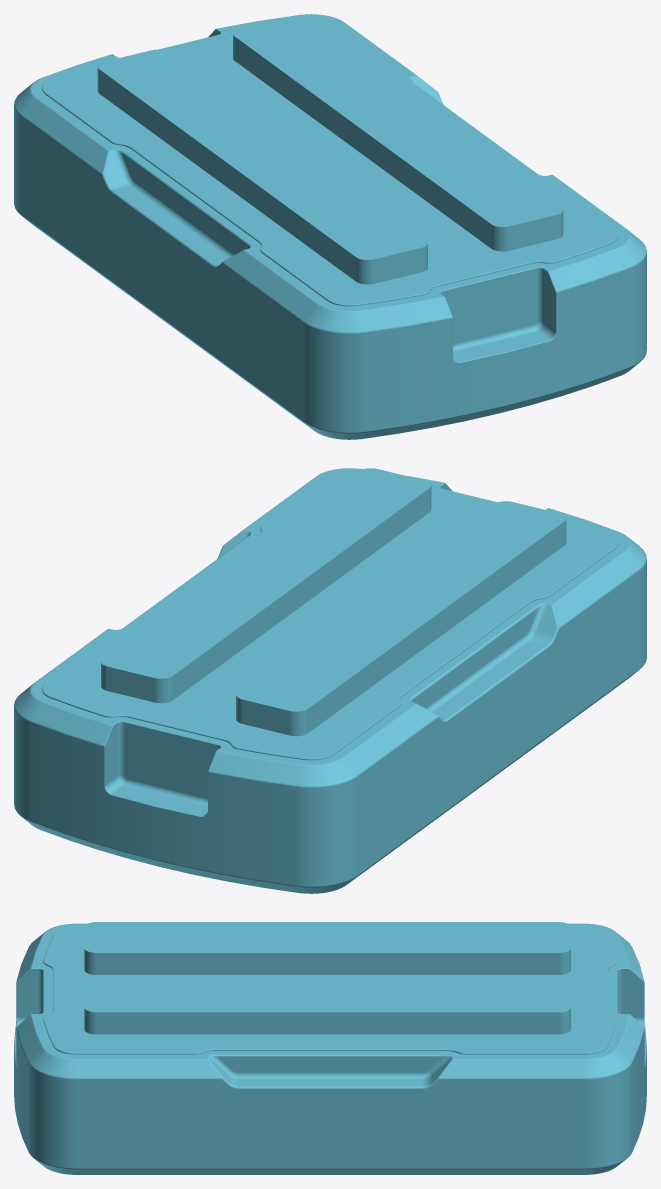
The model's file is DiffRobotChassisLift.fbx.
The picture shows the model from 3 angles, top to bottom: view 1: azimuth 30°, elevation 25°; view 2: azimuth 150°, elevation 25°; view 3: azimuth 270°, elevation 25°; orthographic projection. The views are drawn at different scales.
Parts seen in each view (by area): view 1: Body1, Body4, Body7, Body6; view 2: Body1, Body4, Body6, Body7; view 3: Body1, Body7, Body6, Body4.
Part boxes in pixels (box(x1,y1,x2,y2)): Body1: box(14, 14, 646, 439); Body4: box(42, 17, 618, 306); Body7: box(233, 16, 563, 251); Body6: box(97, 49, 427, 284); Body1: box(14, 468, 646, 893); Body4: box(42, 471, 618, 760); Body6: box(236, 501, 566, 736); Body7: box(101, 468, 431, 703); Body1: box(14, 923, 646, 1174); Body7: box(84, 981, 570, 1034); Body6: box(84, 922, 570, 974); Body4: box(43, 926, 617, 1054).
Bounding box in the file's own units: 720 × 313 × 1300.
